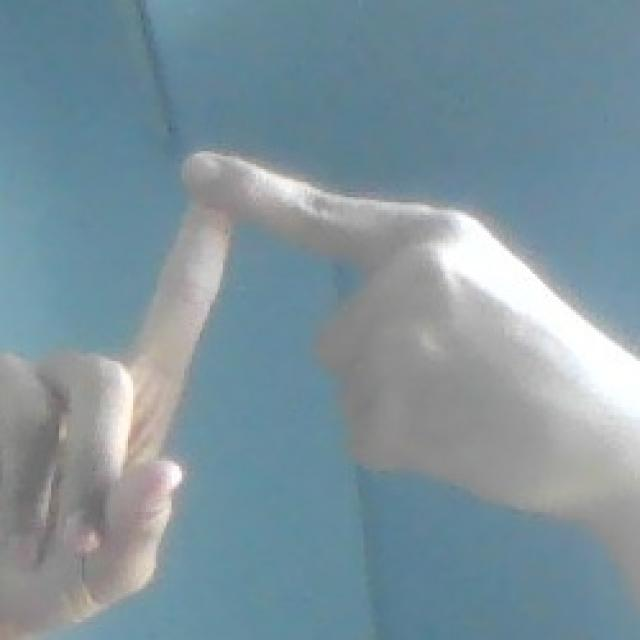Alphabet-E: (0, 140, 607, 609)
